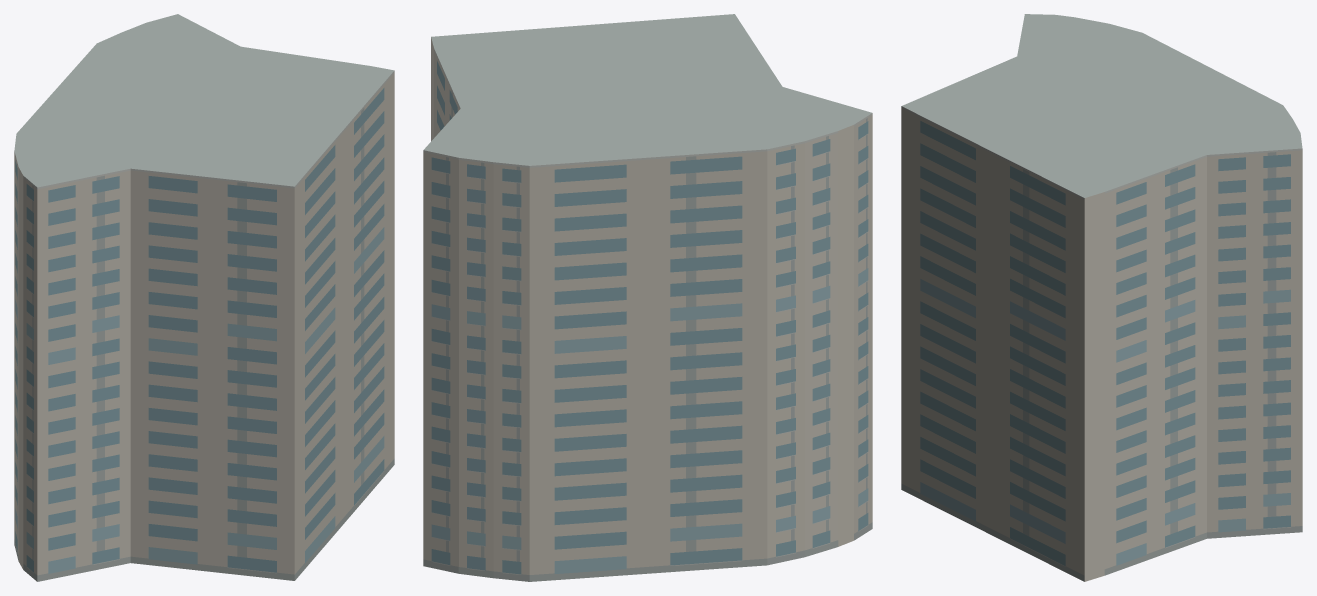
Rendered from residential-dbaf3a27-41e3-43cd-baf9-372cb5598692.glb.
3 renders of one model, left to right at view 1: azimuth 30°, elevation 25°; view 2: azimuth 150°, elevation 25°; view 3: azimuth 270°, elevation 25°, orthographic. The views are drawn at different scales.
Parts seen in each view (by area): view 1: residential-dbaf3a27-41e3-43cd-baf9-372cb5598692.tmp; view 2: residential-dbaf3a27-41e3-43cd-baf9-372cb5598692.tmp; view 3: residential-dbaf3a27-41e3-43cd-baf9-372cb5598692.tmp.
Boxes of the visible parts, x1,y1,x2,y2 form: residential-dbaf3a27-41e3-43cd-baf9-372cb5598692.tmp: [14, 14, 394, 581]; residential-dbaf3a27-41e3-43cd-baf9-372cb5598692.tmp: [423, 14, 872, 581]; residential-dbaf3a27-41e3-43cd-baf9-372cb5598692.tmp: [901, 14, 1302, 581].
Bounding box in the file's own units: 53.53 × 52 × 49.26.
